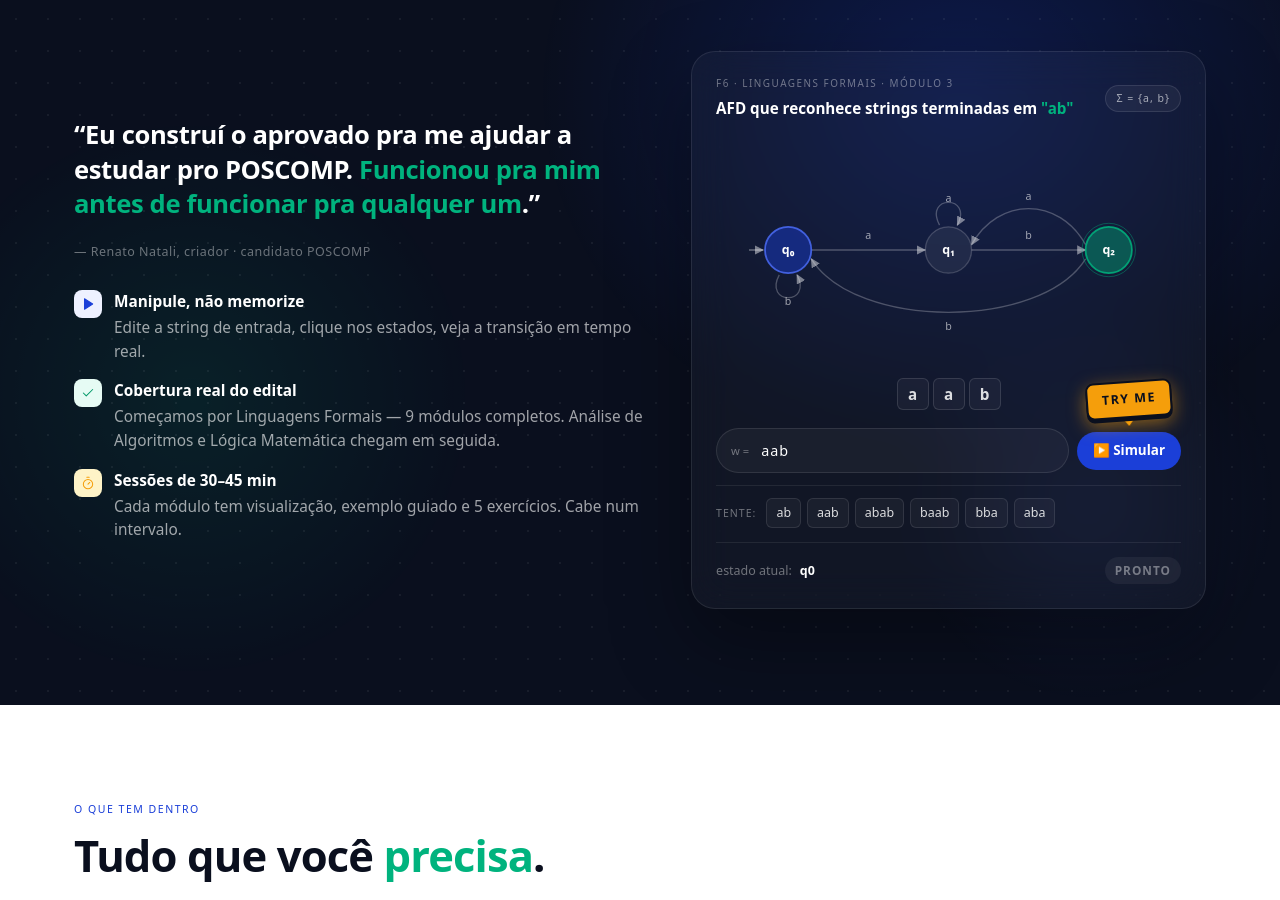
Test: LandingPage — comportamento › AutomatonSim aceita interação do usuário › substitui "Simular" por "Reiniciar" ao iniciar a simulação
(page scrolled)
Click the button "▶ Simular". click: (1129, 451)
box: [1077,432,1181,470]
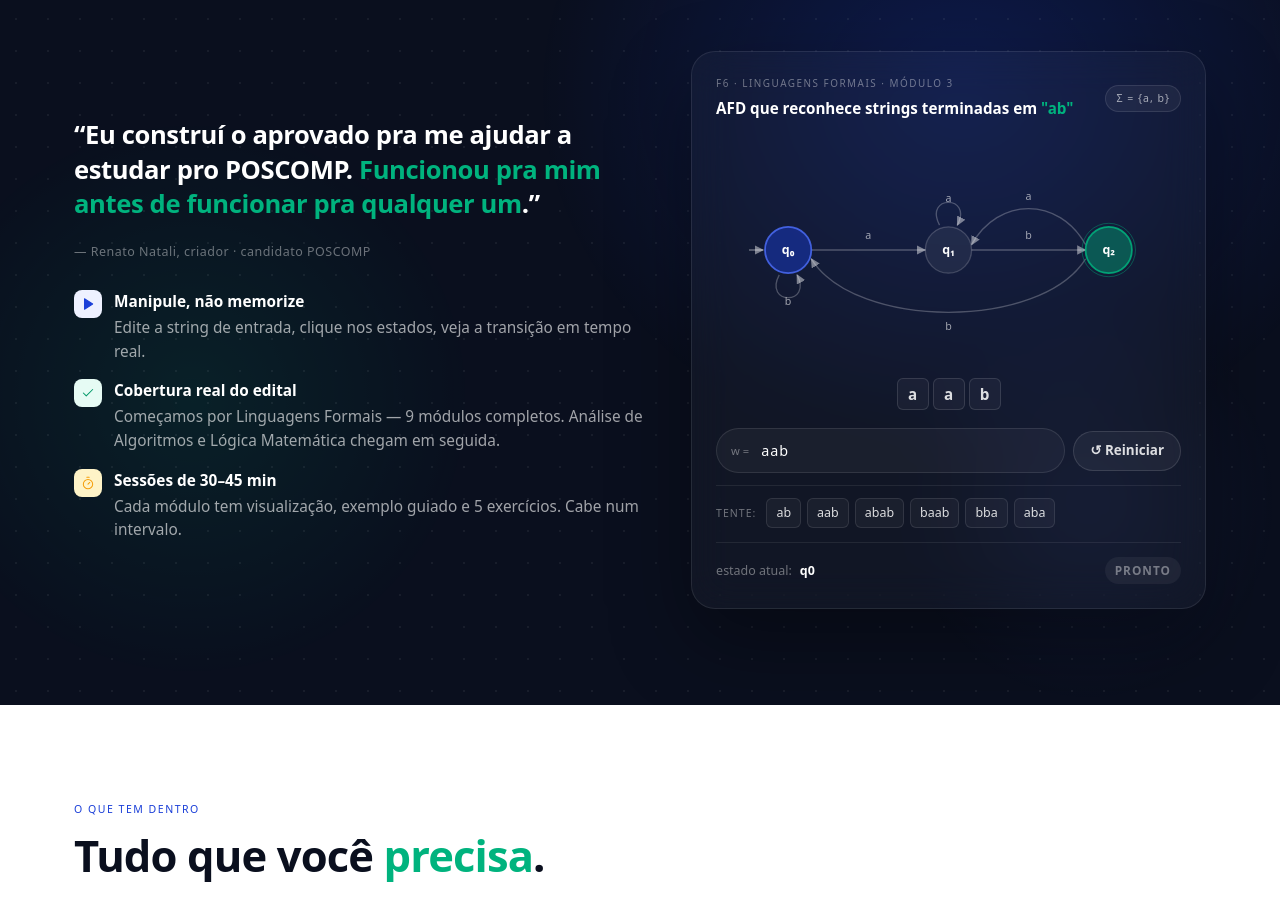
expect the button "Simular" is gone: met
expect the button "↺ Reiniciar" is shown: met, box [1073,431,1181,471]
